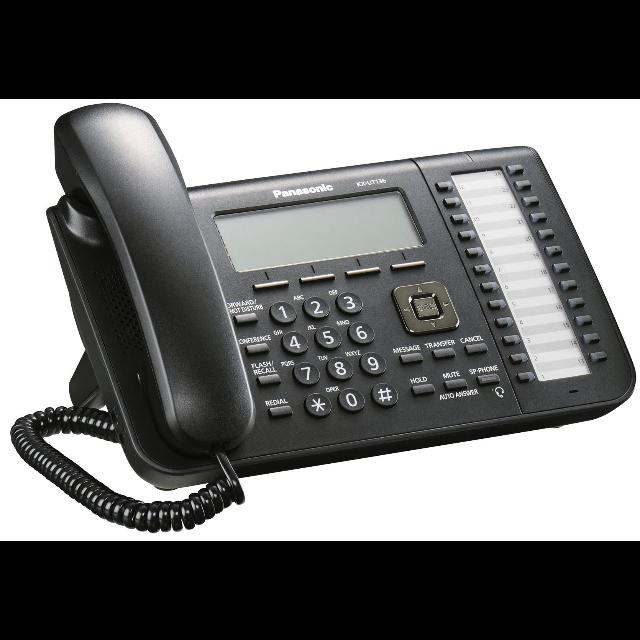Telephone-Set: (38, 105, 640, 481)
